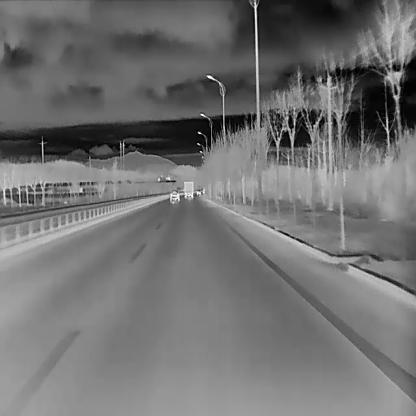car: (183, 179, 193, 197), (169, 188, 180, 200), (196, 189, 200, 194)
